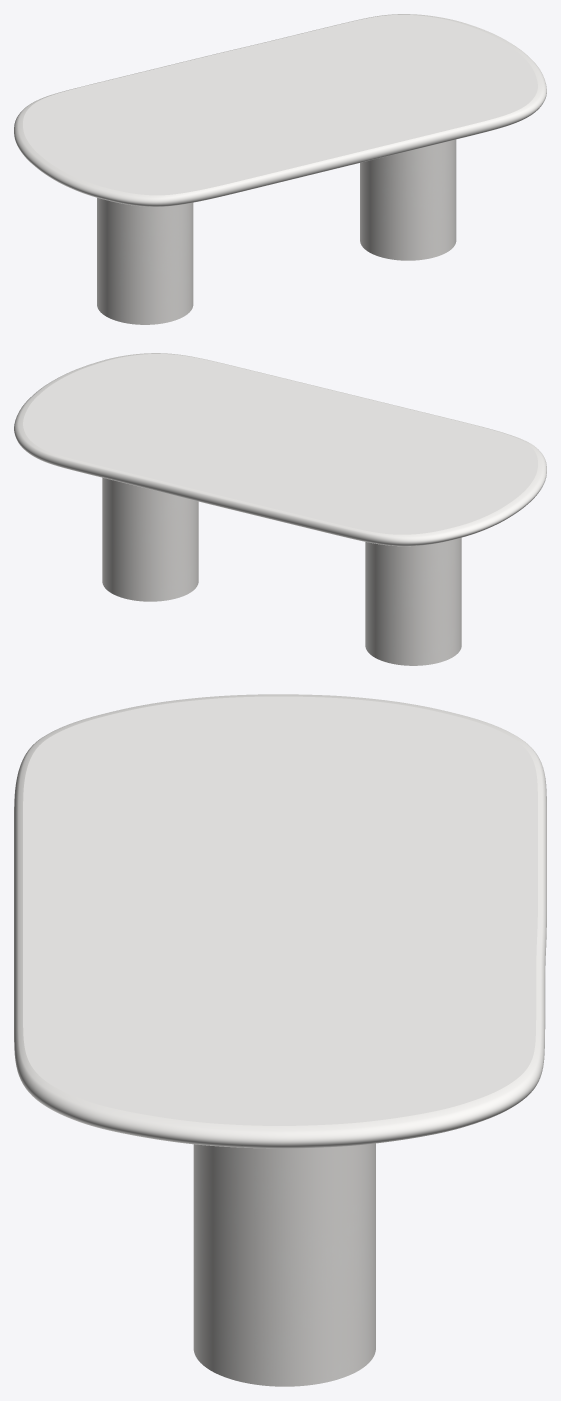
Rendered from purewhite_oval_round_stream.glb.
3 views of the same model, one above another, from view 1: azimuth 30°, elevation 25°; view 2: azimuth 150°, elevation 25°; view 3: azimuth 270°, elevation 25° (orthographic). The views are drawn at different scales.
Visible parts, largest first — view 1: round_oval, stream; view 2: round_oval, stream; view 3: round_oval, stream.
Boxes of the visible parts, x1,y1,x2,y2 form: round_oval: (14, 14, 546, 206); stream: (97, 139, 456, 324); round_oval: (14, 353, 546, 546); stream: (102, 477, 461, 665); round_oval: (14, 694, 546, 1148); stream: (193, 1143, 375, 1386).
Size of the model in its own units: 7.5 by 2.5 by 3.8.
1 material, 1 textured.
